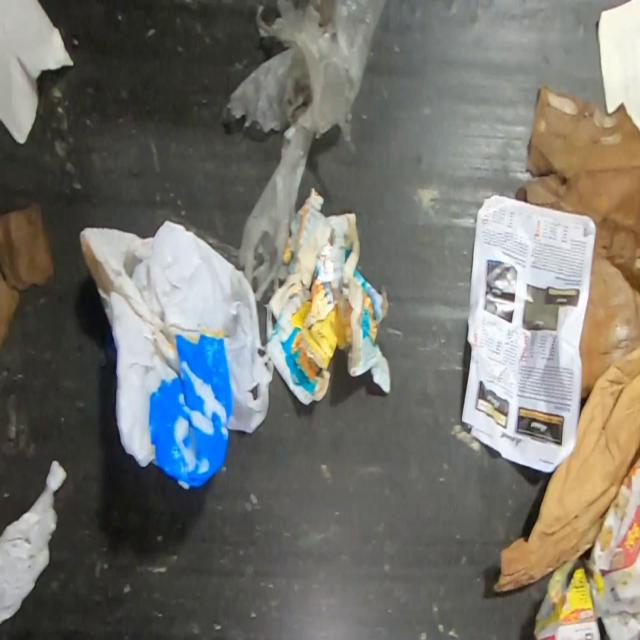cardboard: (491, 342, 640, 595), (532, 565, 603, 639)
soft_plastic: (77, 219, 276, 492), (225, 0, 394, 306)
